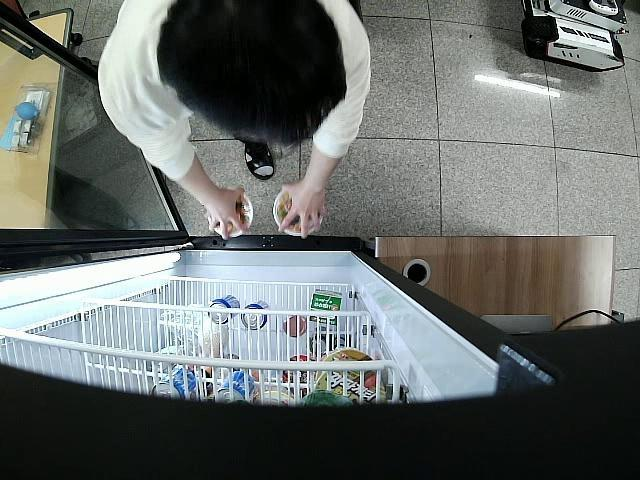09_yukGaeJang: (273, 194, 322, 237), (209, 195, 252, 238)
